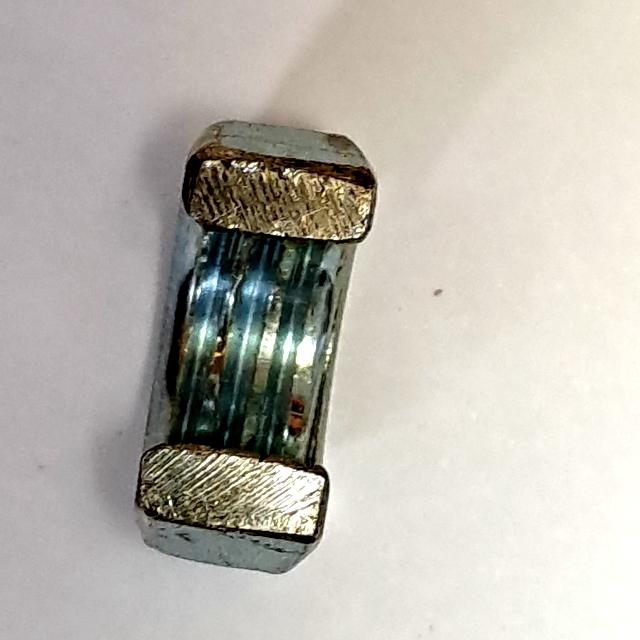Side-Fracture: (124, 106, 390, 587)
